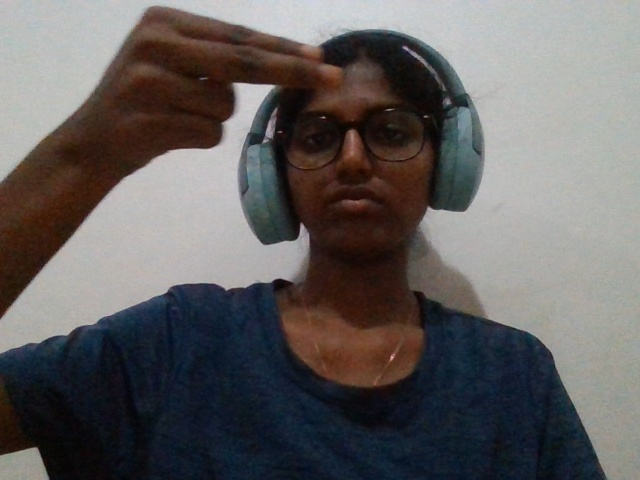H: (49, 2, 357, 218)
